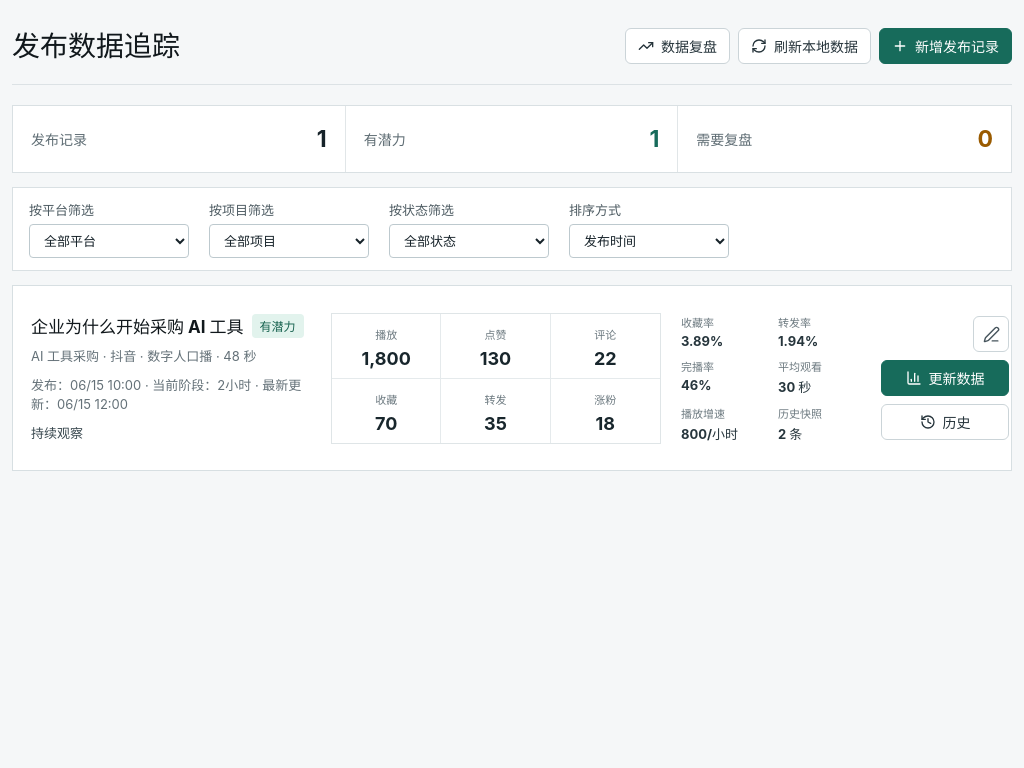
发布数据追踪页面 › 能查看历史快照
Expected: the heading "企业为什么开始采购 AI 工具" is shown, [31,313,244,338]
Click the button with aria-label "查看 企业为什么开始采购 AI 工具 的历史": click(945, 422) [881,404,1009,440]
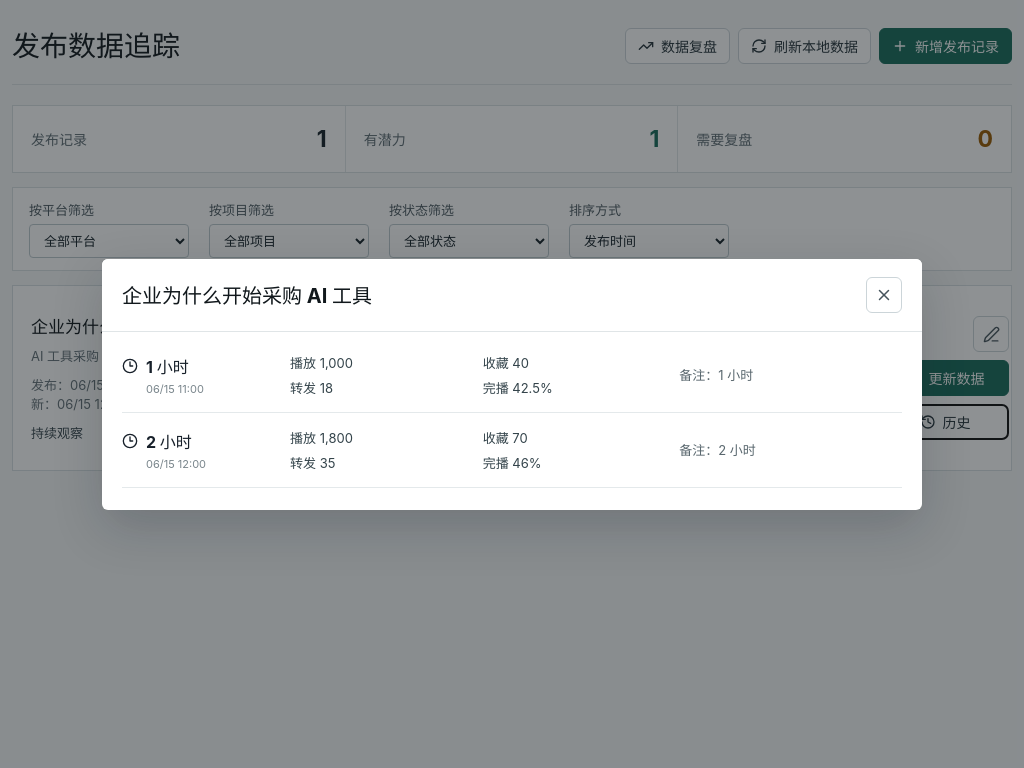
Now the text "1 小时" is shown, box [146,356,189,376]
Now the text "2 小时" is shown, box [146,432,192,452]
